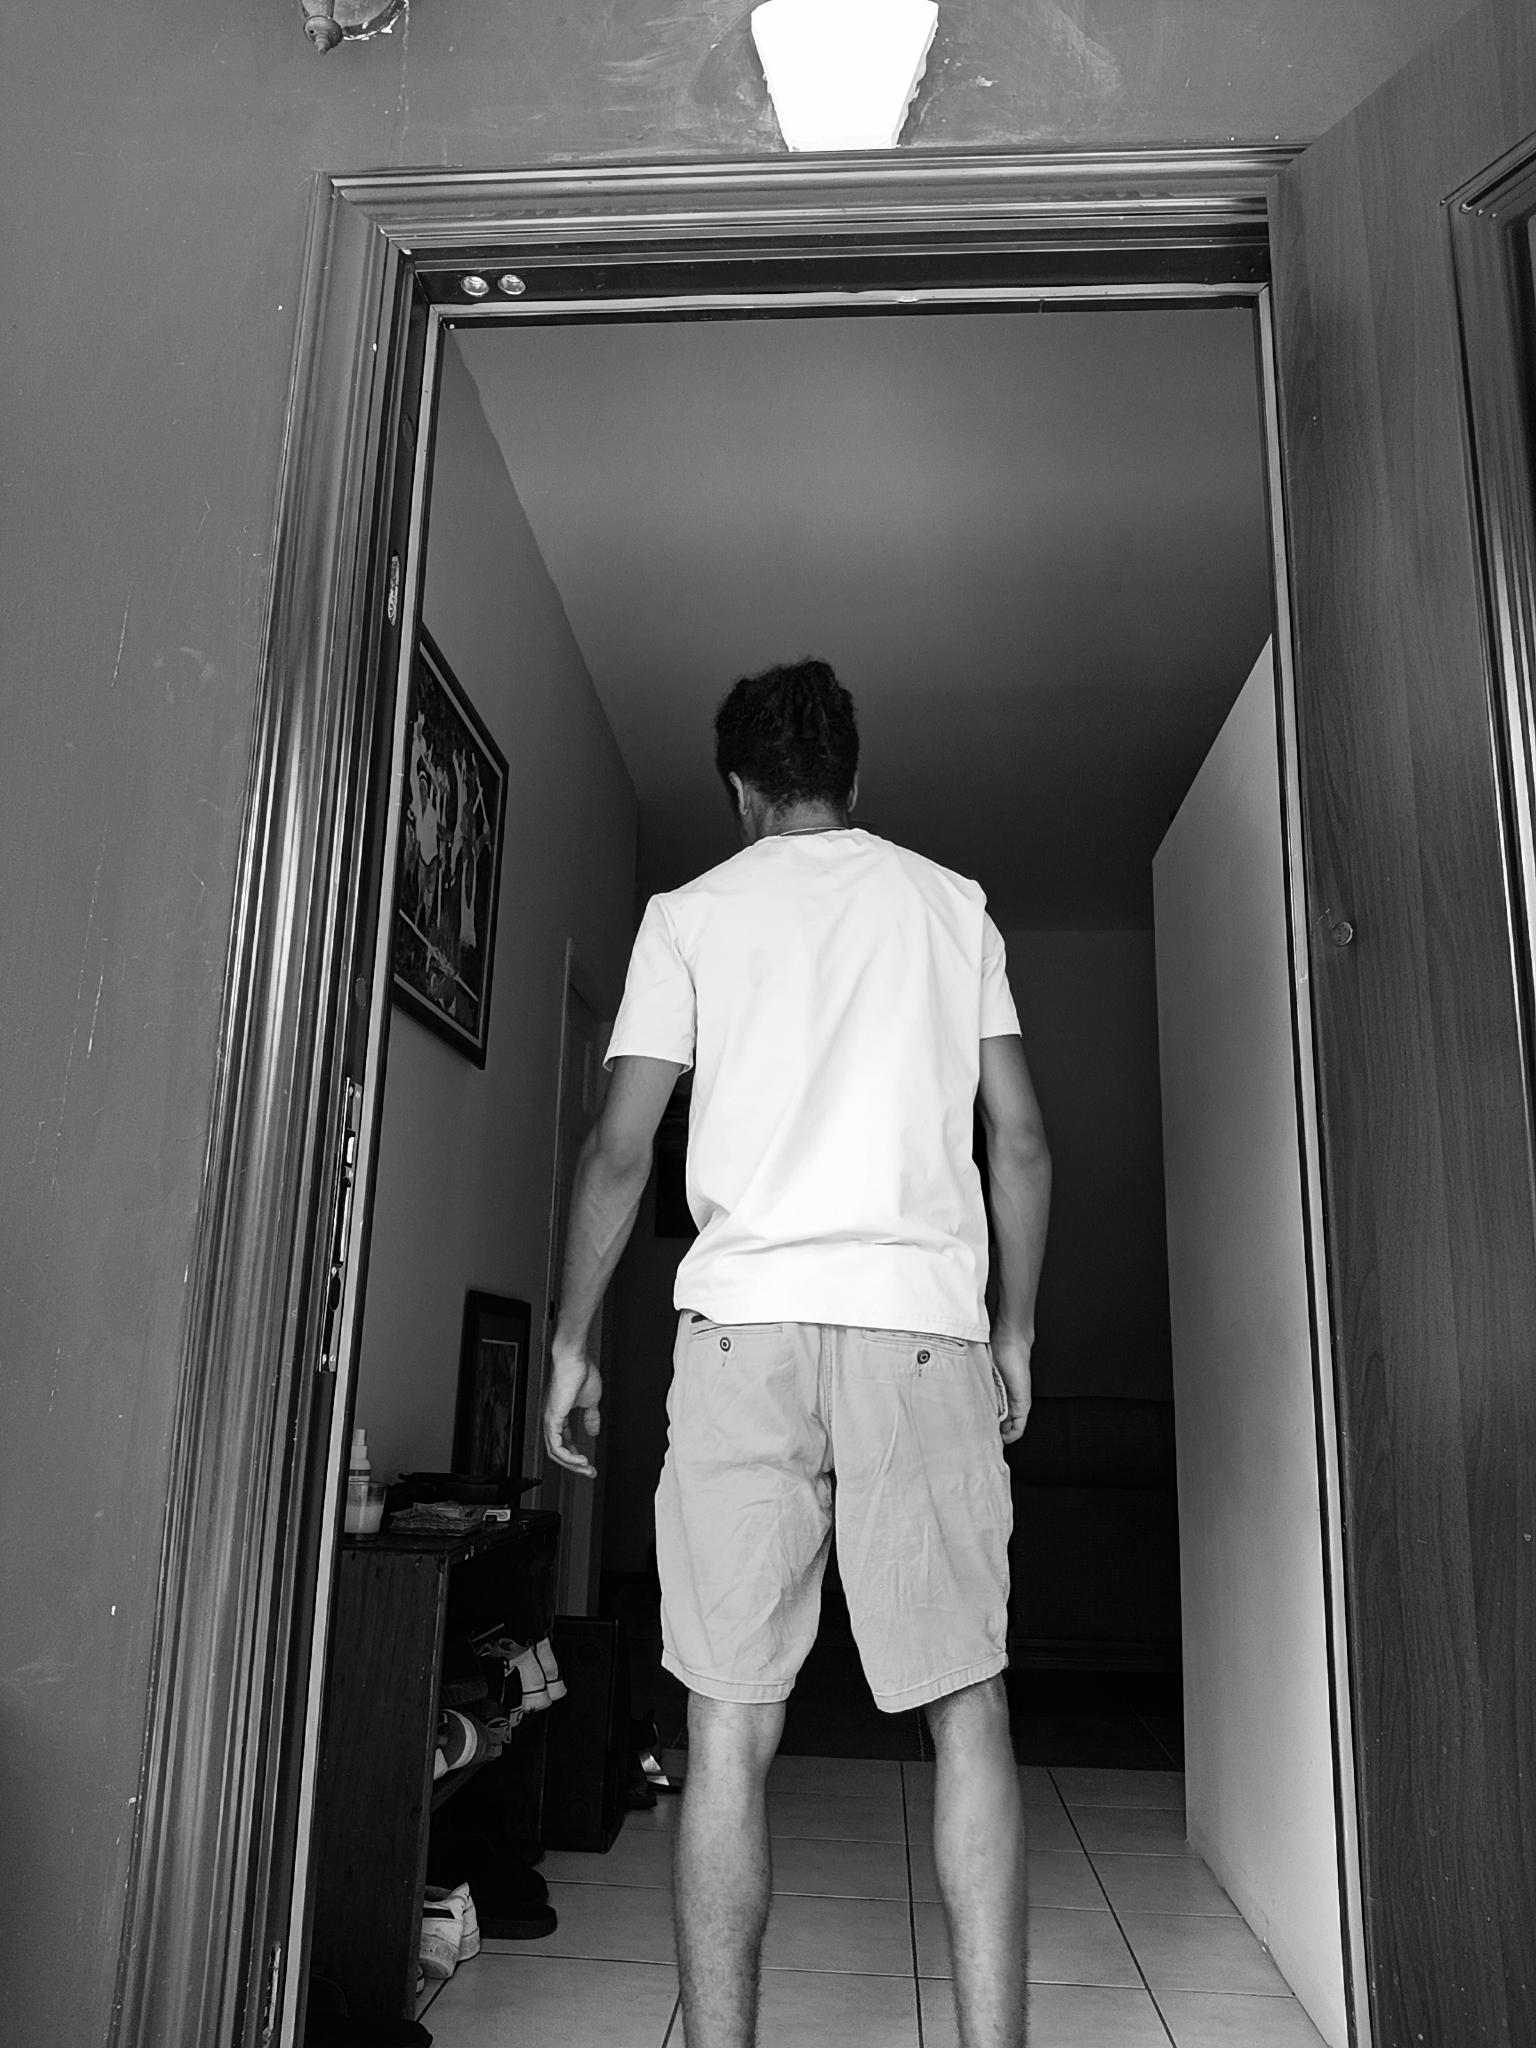back: (536, 653, 1060, 2040)
